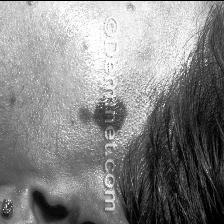Potentially Malignant Skin Tumors: (95, 96, 125, 131)
